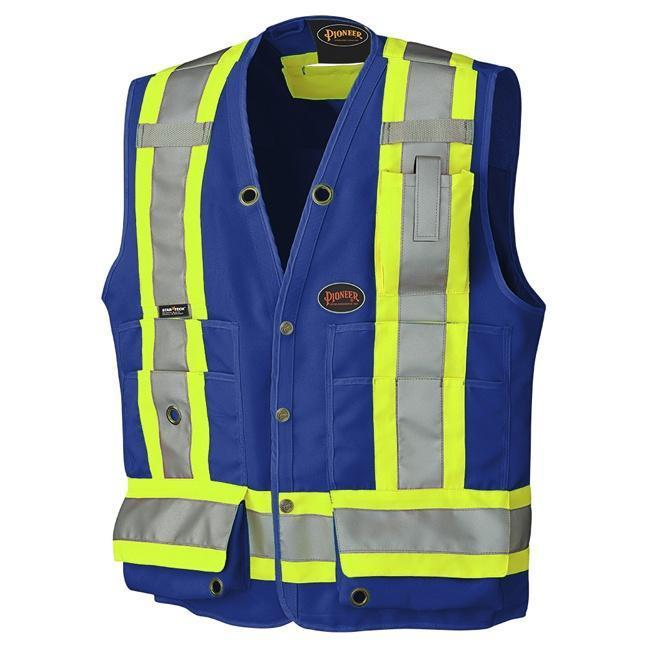vest: (98, 14, 548, 632)
